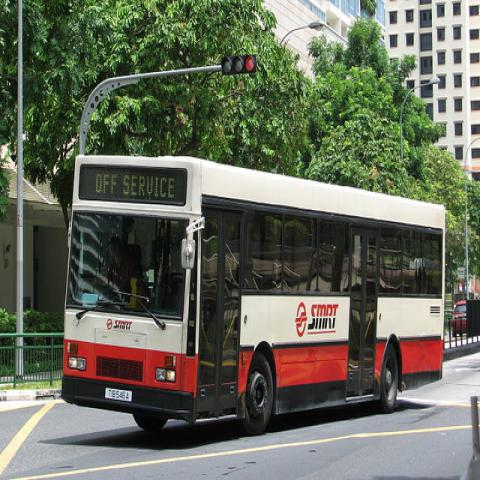bus: (61, 155, 446, 436)
car: (452, 300, 468, 337)
